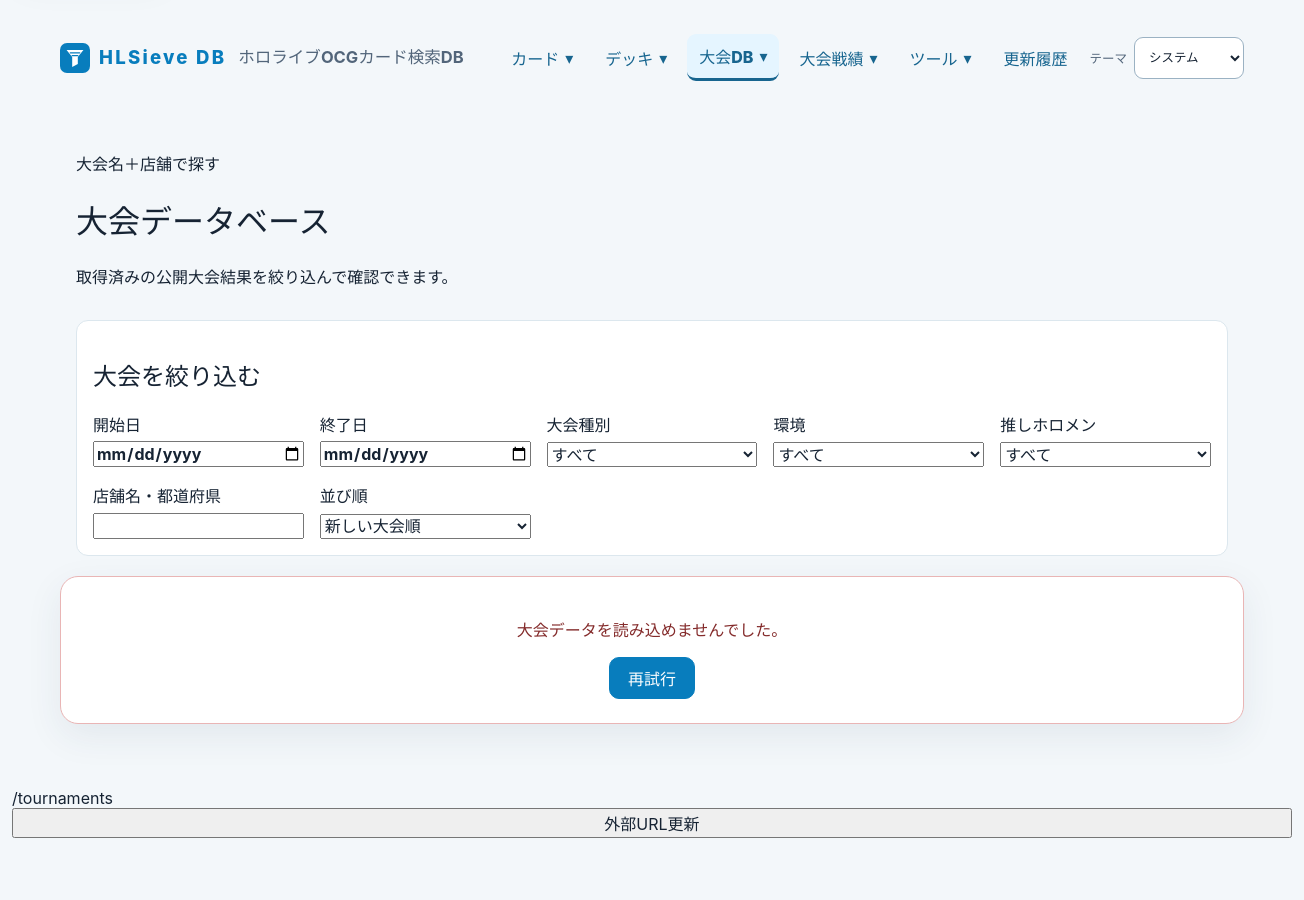
Test: TournamentListPage › shows an alert for index failure and retries
What coordinates should you click on to do the following:
click the button "再試行"
I would click on:
 (652, 678)
Its box is [609,657,695,699].
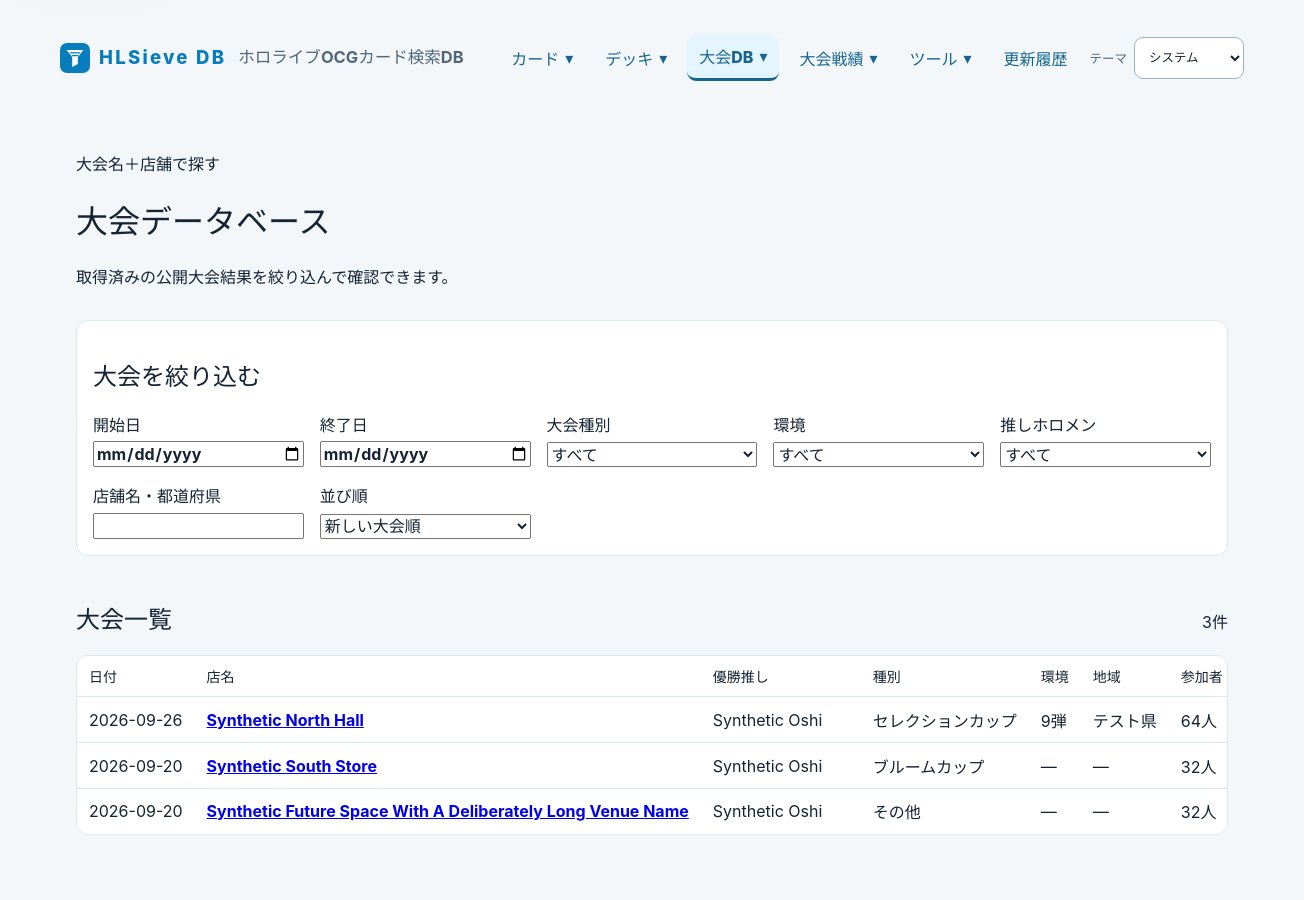
Expected: the link "Synthetic North Hall" is shown, [207,710,364,730]
